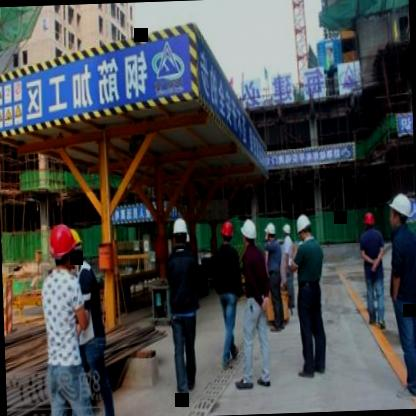helmet: (47, 219, 75, 270), (388, 193, 411, 231), (68, 225, 86, 268), (238, 217, 260, 252), (171, 217, 192, 252), (216, 214, 236, 248), (296, 210, 314, 247), (260, 220, 278, 248), (361, 206, 378, 234), (281, 220, 293, 240)
